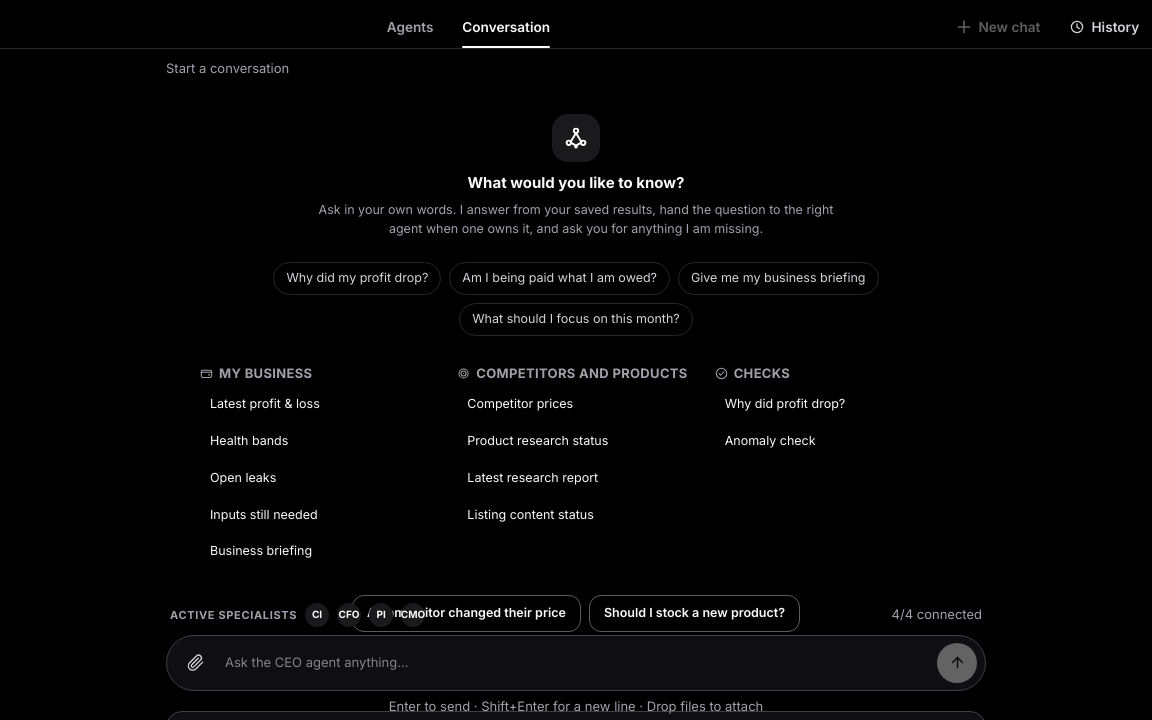
Test: a question that could not be sent › is shown once, as not sent, when the backend cannot be reached and the thread cannot be refreshed
Step 1. Click the button with test id "open-drawer" → point(1104, 27), box [1056,8,1151,46]
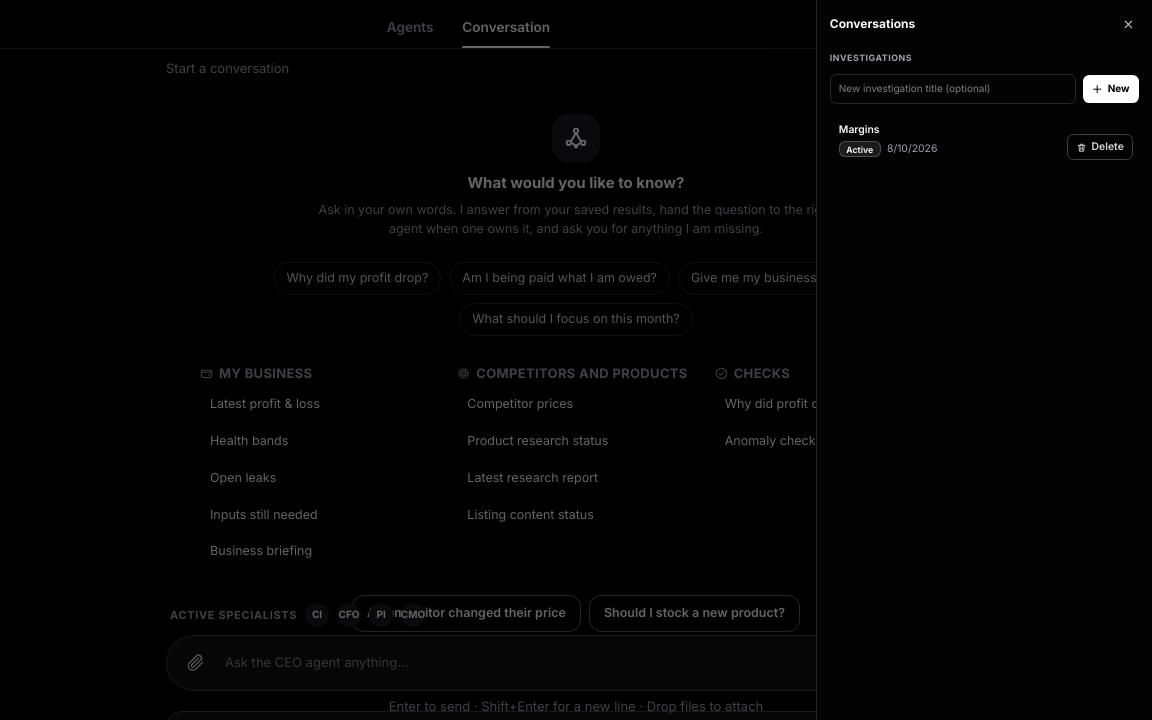
Step 2. Click the button "Margins Active 8/10/2026" → point(859, 130), box [830,113,1139,166]
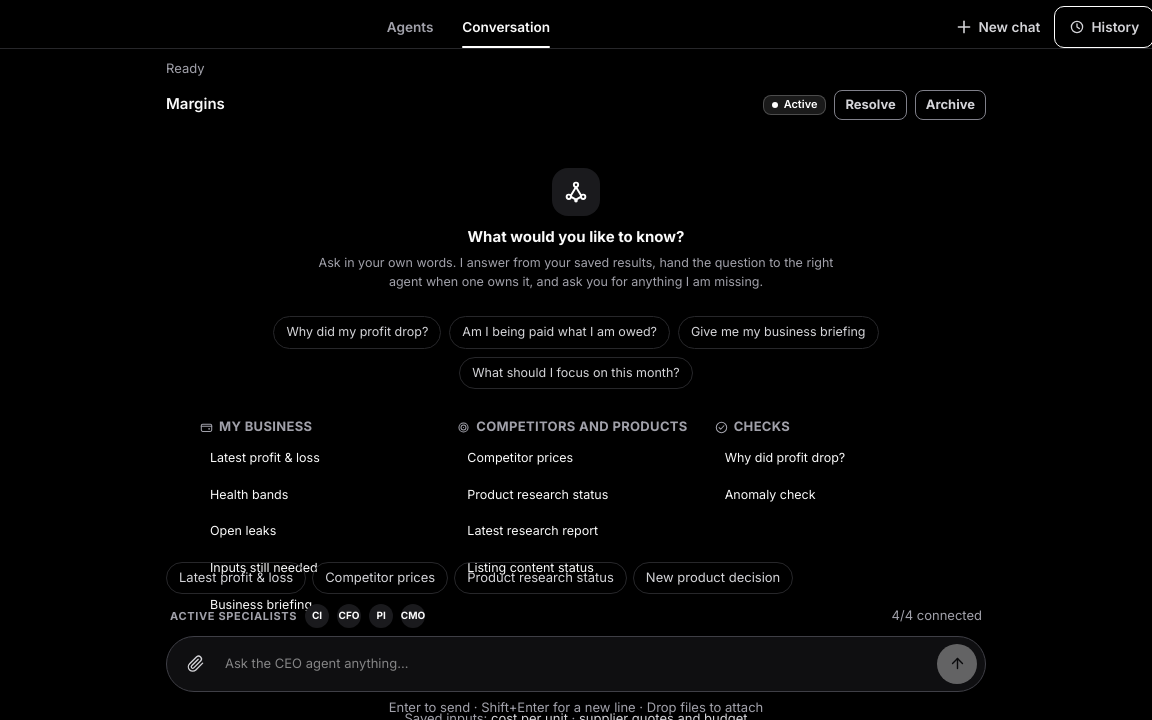
Step 3. Type "Where am I losing money?" into the text box labelled "Ask the CEO" → point(576, 663), box [221,643,931,683]
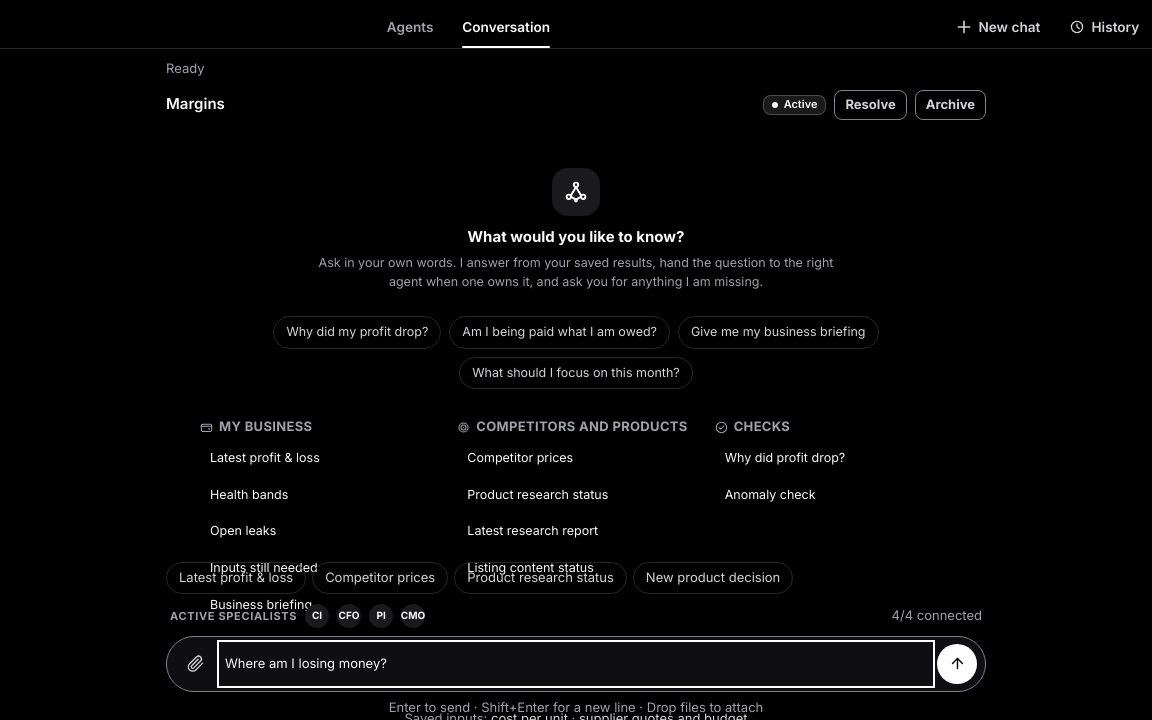
Step 4. Click the button named "Send" → point(957, 663), box [937,643,977,683]
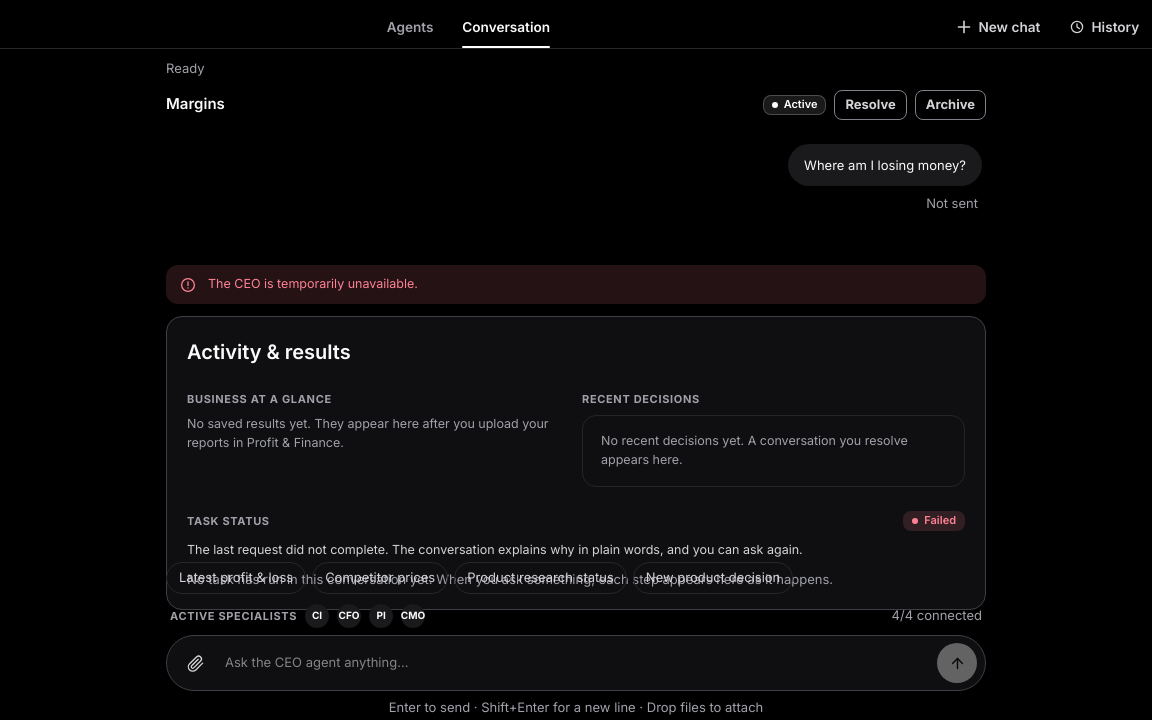
Expected: the text "Not sent" is shown, [926,194,978,213]
Expected: the text "Where am I losing money?" is shown once, [804,154,966,176]
